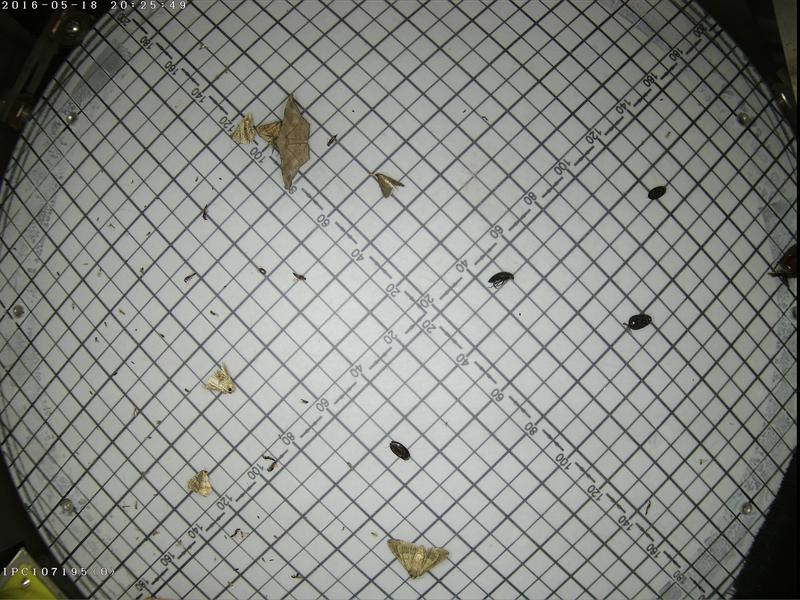Bollworm: (384, 536, 449, 583)
